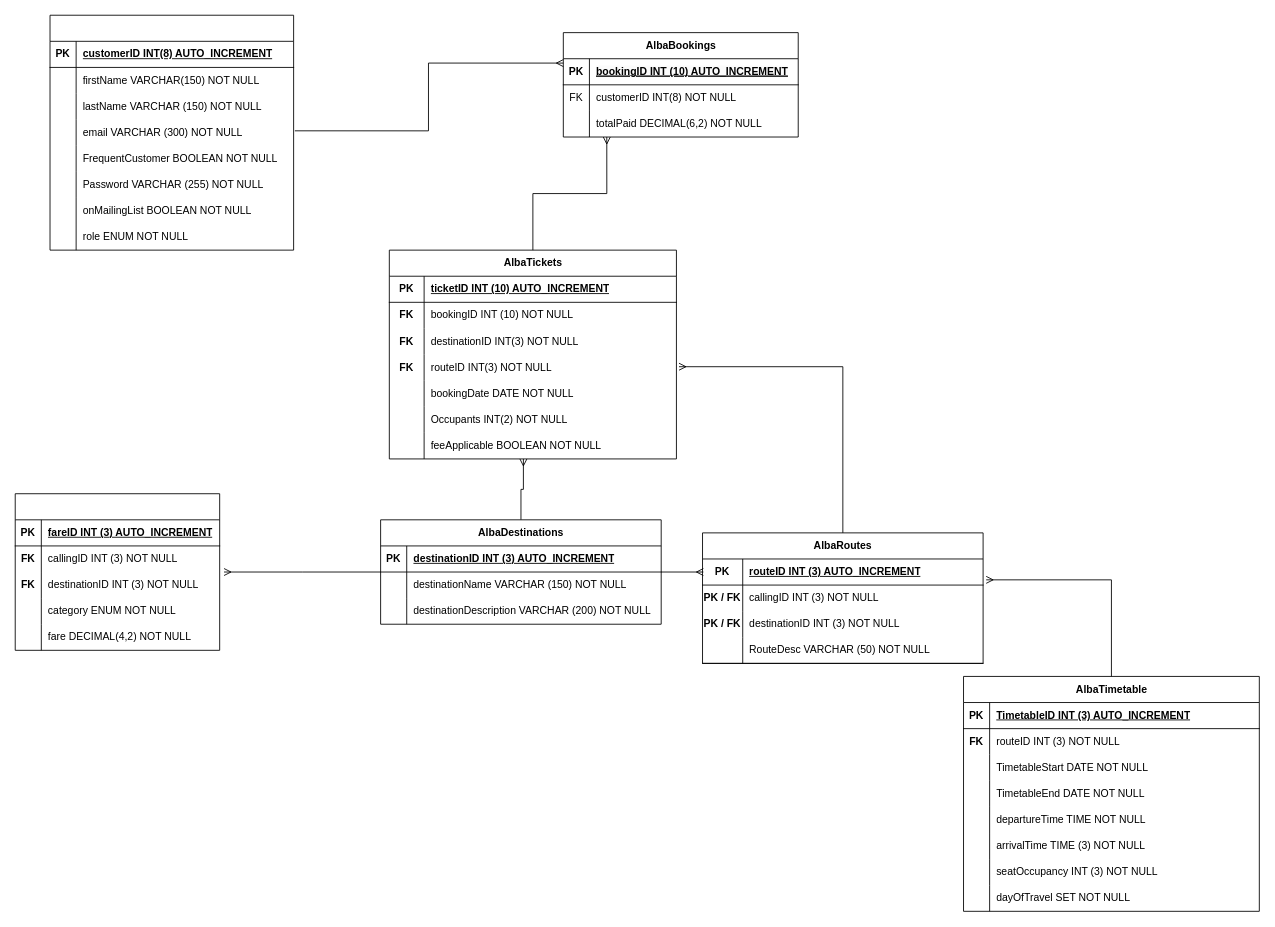
Some shapes in this 1275 by 927 pixel diagram are drawn without their labels. Each missing label, with the box of its shape:
AlbaCustomers: (49, 14, 294, 250)
AlbaFares: (14, 493, 220, 650)
